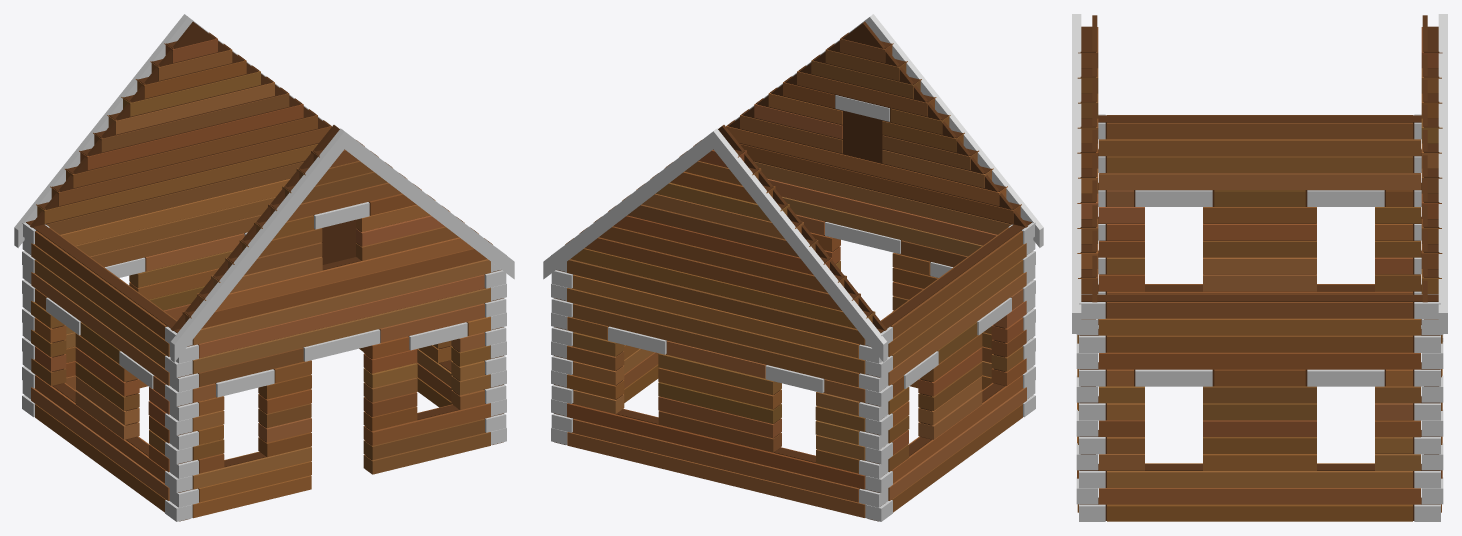
Rendered from CandyHouse_Gingerbread_Walls.glb.
3 renders of one model, left to right at view 1: azimuth 30°, elevation 25°; view 2: azimuth 150°, elevation 25°; view 3: azimuth 270°, elevation 25°, orthographic. The views are drawn at different scales.
Parts seen in each view (by area): view 1: CandyHouse_Gingerbread_Walls; view 2: CandyHouse_Gingerbread_Walls; view 3: CandyHouse_Gingerbread_Walls.
Boxes of the visible parts, x1,y1,x2,y2 form: CandyHouse_Gingerbread_Walls: (14,14,514,521); CandyHouse_Gingerbread_Walls: (543,14,1043,521); CandyHouse_Gingerbread_Walls: (1072,14,1447,521).
Bounding box in the file's own units: 22.8 × 22.61 × 18.6.
